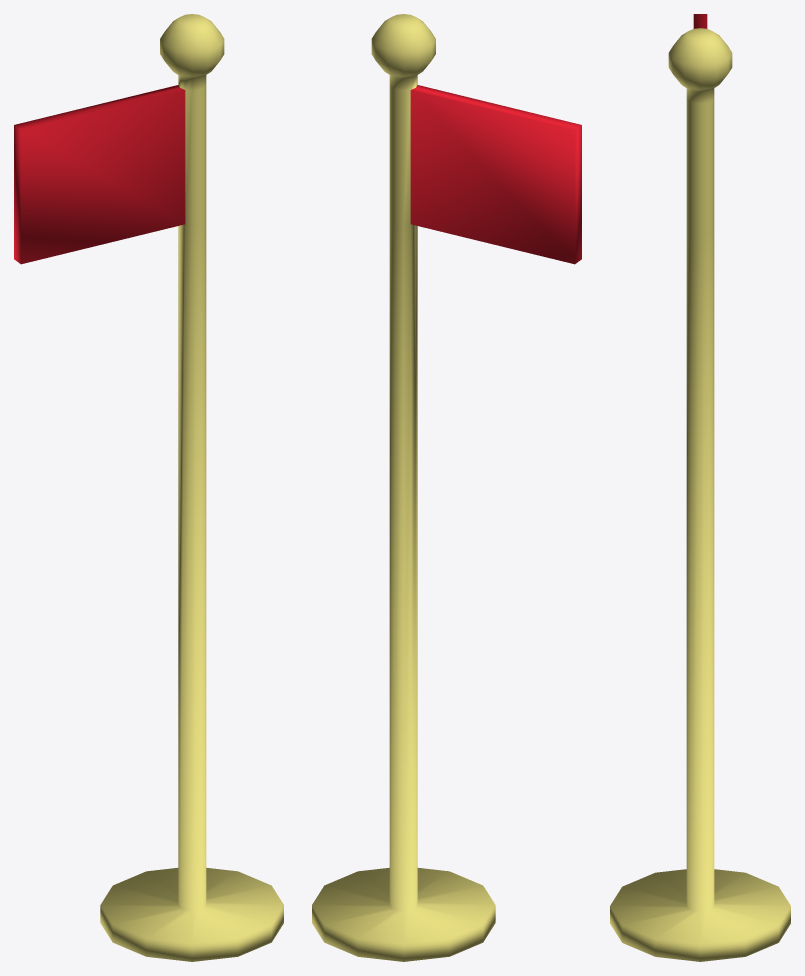
File: flag.glb
3 views of the same model, side by side, from view 1: azimuth 30°, elevation 25°; view 2: azimuth 150°, elevation 25°; view 3: azimuth 270°, elevation 25° (orthographic).
Visible parts, largest first — view 1: Circle; view 2: Circle; view 3: Circle.
Boxes of the visible parts, bbox=[...] form: Circle: bbox=[14, 14, 283, 961]; Circle: bbox=[312, 14, 581, 961]; Circle: bbox=[610, 14, 790, 961].
Size of the model in its own units: 2.23 by 7.59 by 1.4.
